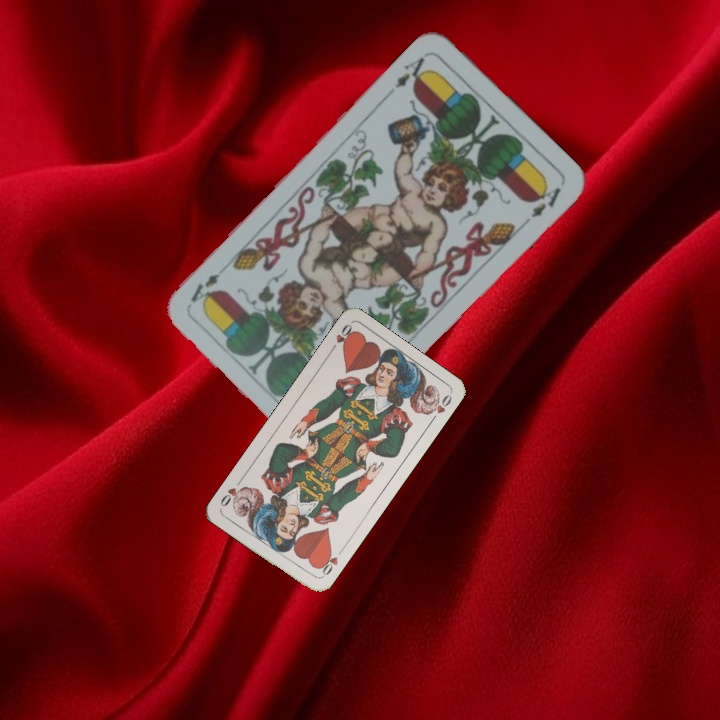EA: (390, 49, 433, 91)
HO: (314, 545, 346, 580), (326, 320, 357, 356)
